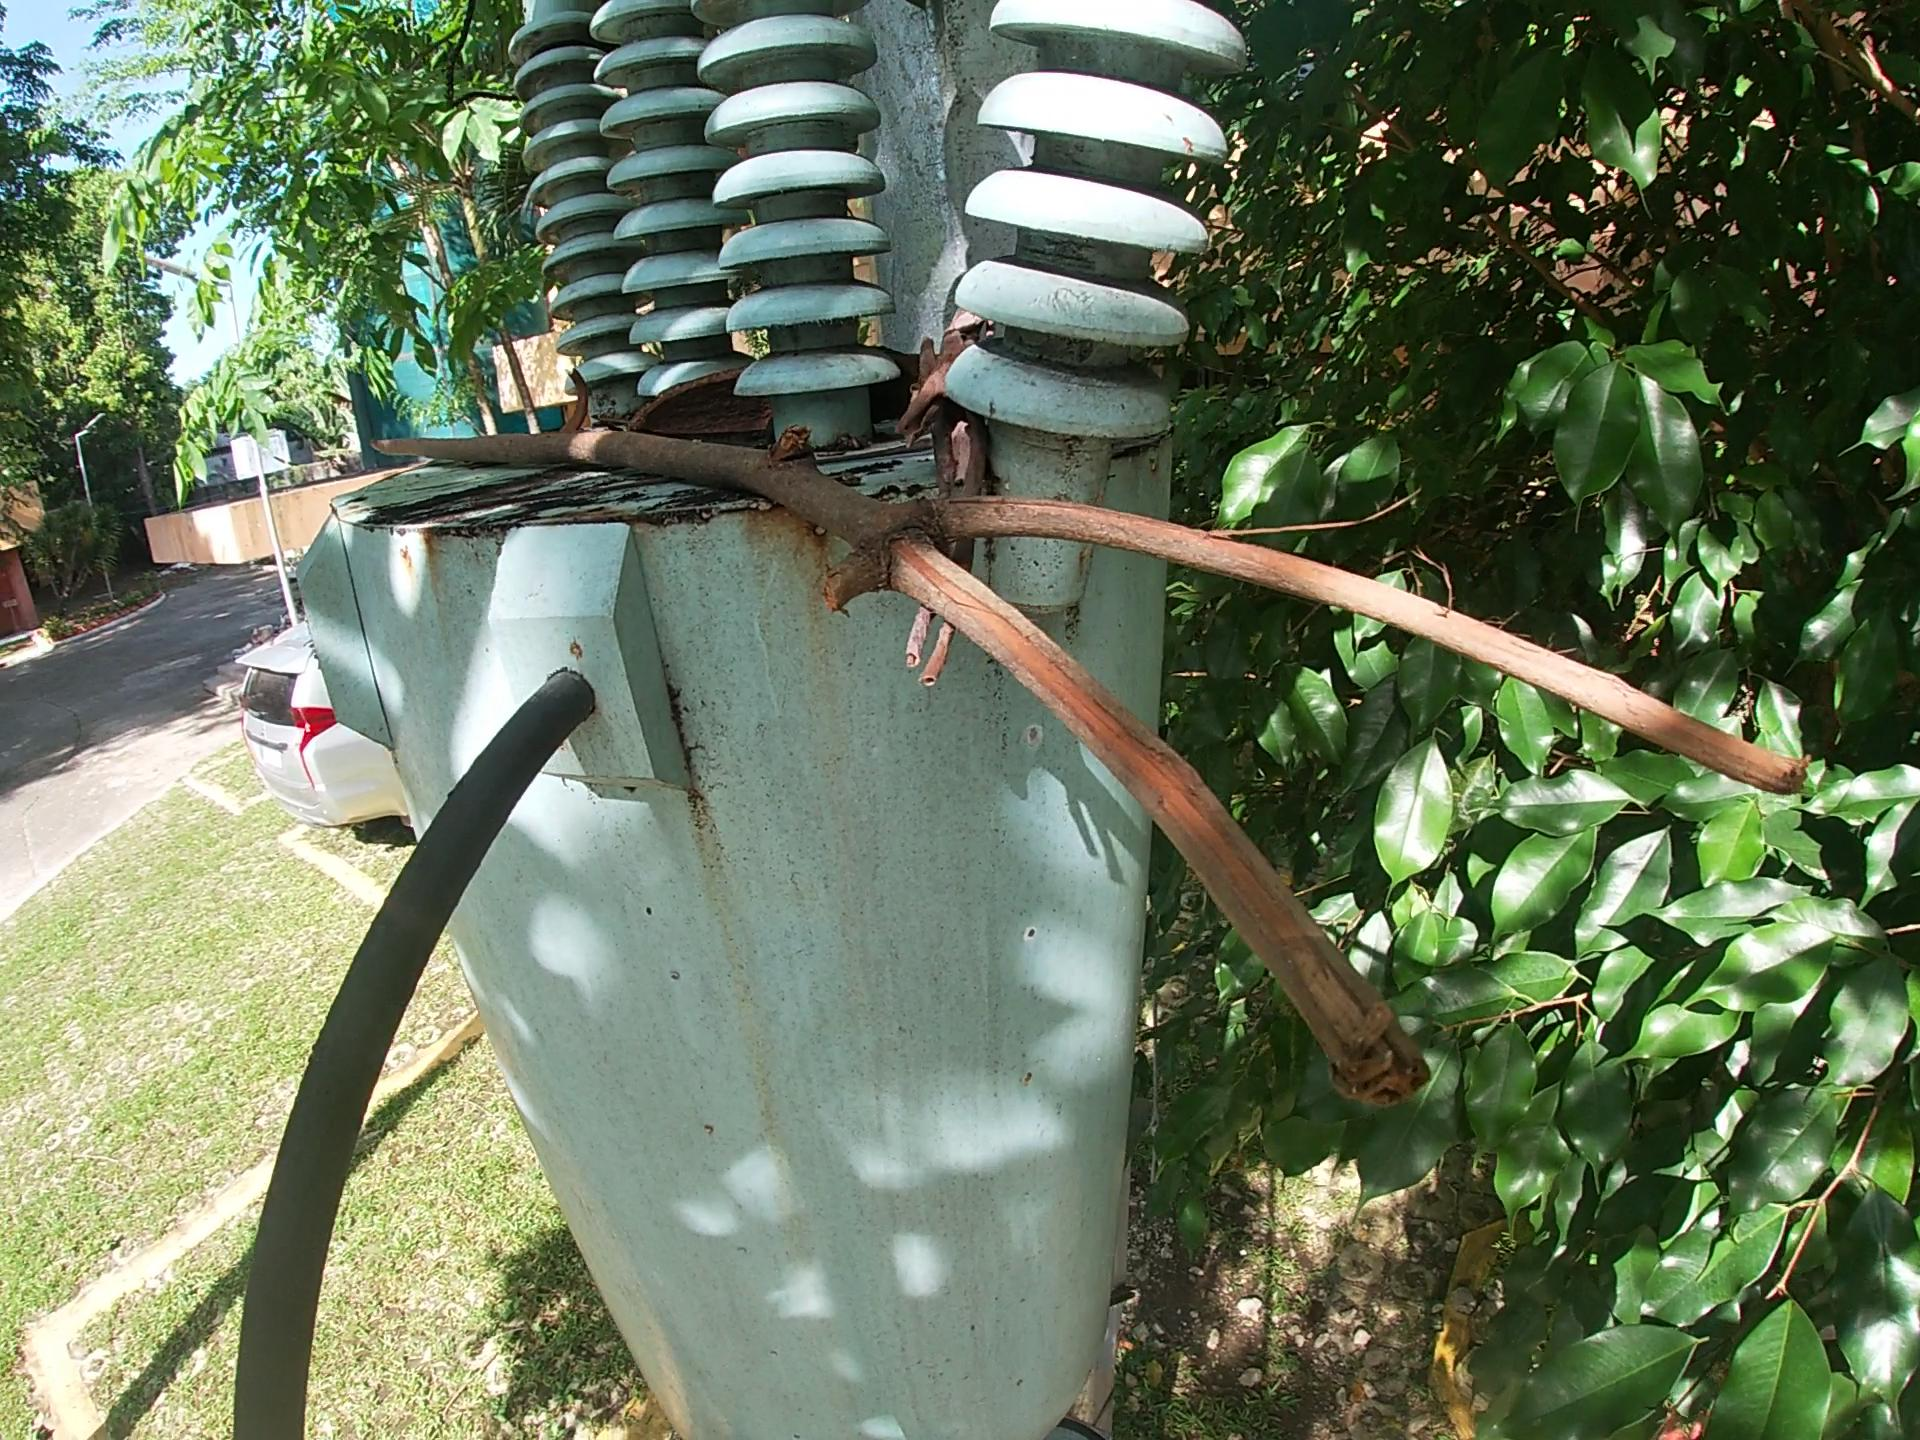mahogany fruit: (624, 368, 780, 440), (862, 346, 936, 430), (544, 380, 611, 430)
tree branch: (363, 421, 1847, 1125), (907, 280, 984, 728)
